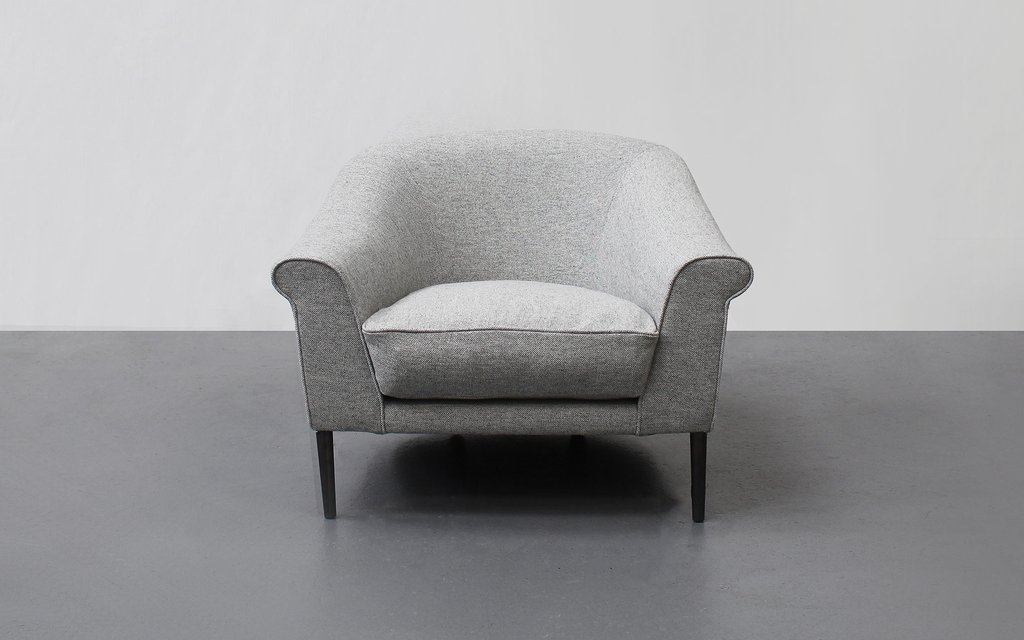chairs: (264, 127, 760, 527)
